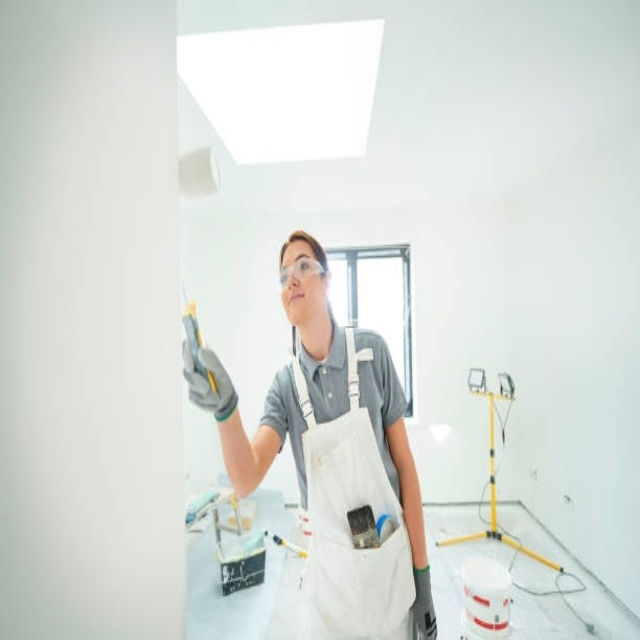Gafas: (278, 258, 326, 289)
Guantes: (183, 337, 239, 422), (411, 565, 437, 640)
Sin_mascara: (283, 287, 307, 314)
